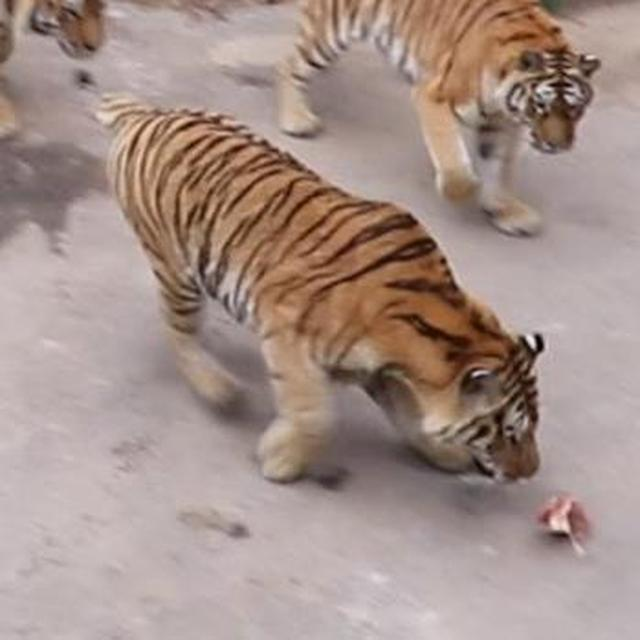tiger: (94, 93, 562, 503), (266, 0, 637, 241), (0, 0, 111, 124)
